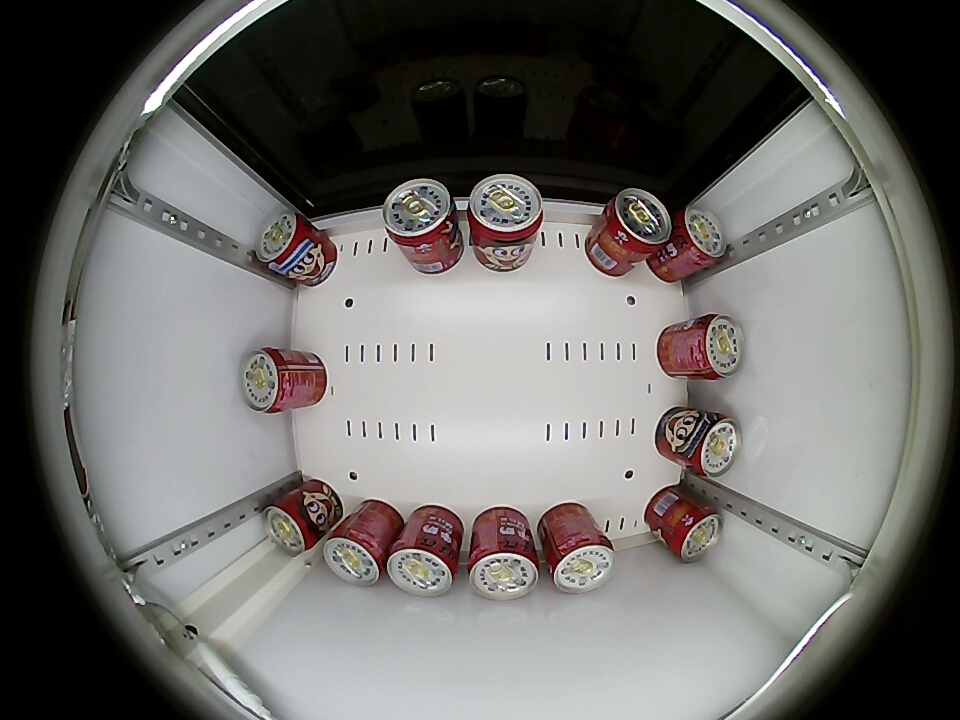wangzainiunai: (467, 173, 545, 263), (382, 178, 461, 262), (467, 521, 541, 601), (598, 188, 671, 260), (386, 526, 461, 596), (322, 514, 391, 587), (543, 525, 615, 594), (680, 410, 741, 480), (261, 489, 323, 557), (254, 211, 316, 278), (669, 203, 727, 273), (662, 496, 723, 562), (240, 347, 299, 415), (685, 313, 744, 381)
